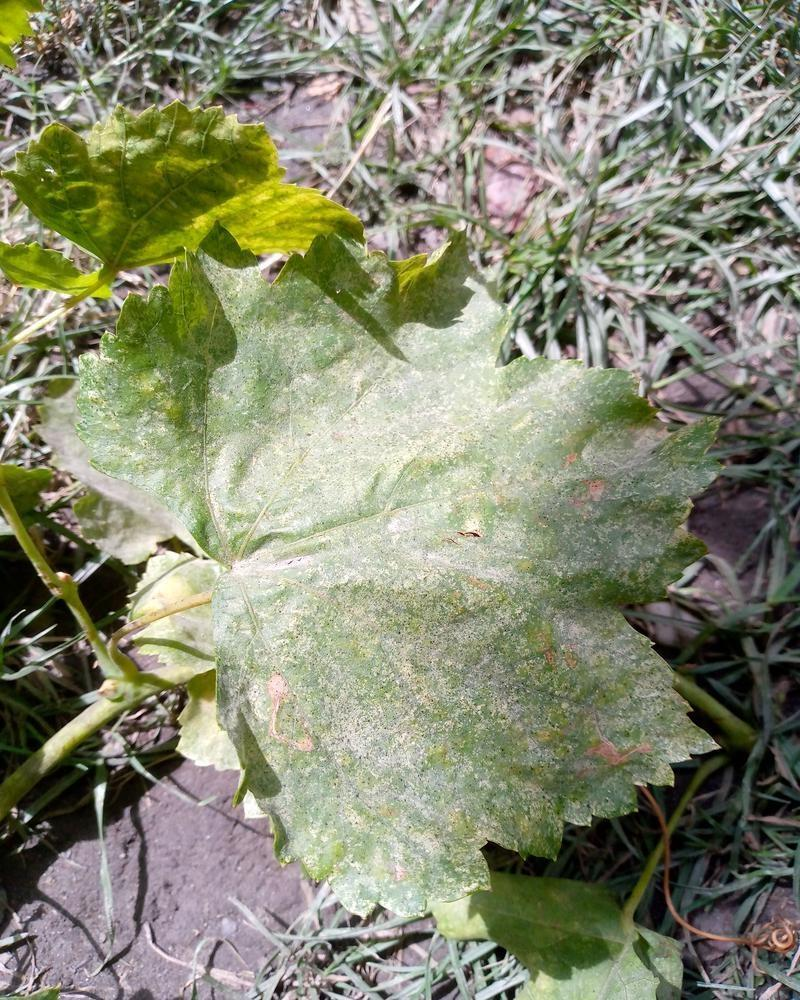Powdery-Mildew: (50, 247, 366, 558), (364, 277, 595, 487), (155, 539, 356, 718), (280, 717, 427, 919), (367, 490, 543, 591), (589, 659, 707, 774), (584, 458, 631, 505), (535, 639, 582, 686)
